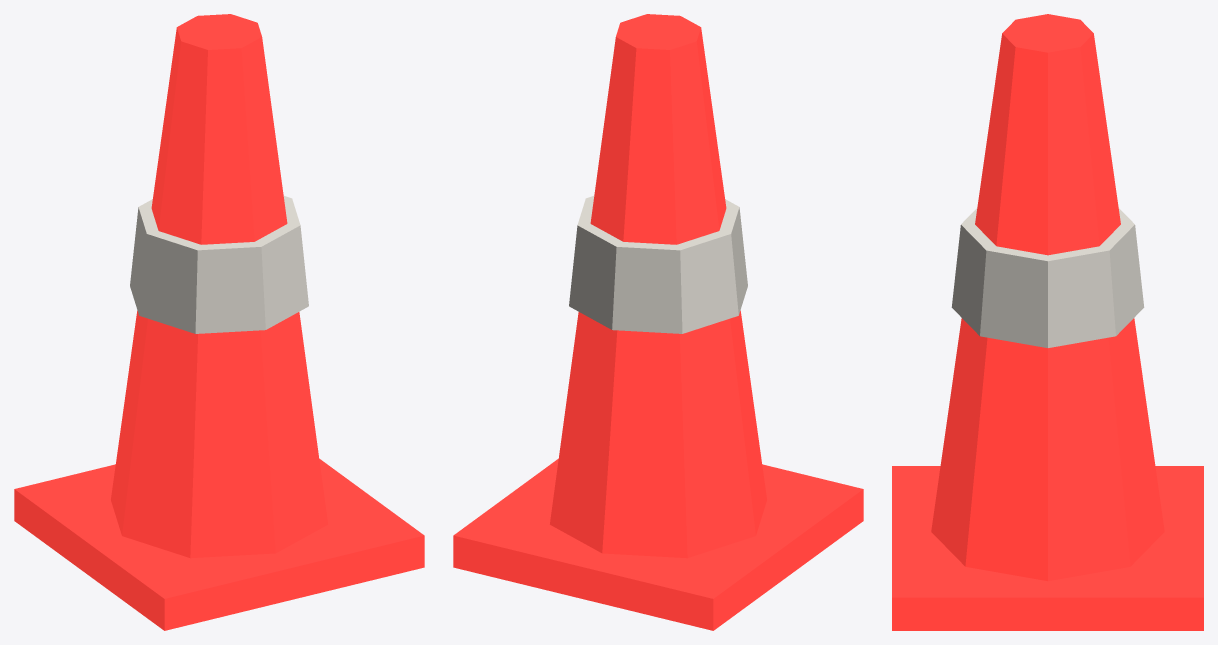
Rendered from prop_cone.glb.
3 views of the same model, side by side, from view 1: azimuth 30°, elevation 25°; view 2: azimuth 150°, elevation 25°; view 3: azimuth 270°, elevation 25° (orthographic). The views are drawn at different scales.
Parts seen in each view (by area): view 1: body.057, base.059, band.003; view 2: body.057, base.059, band.003; view 3: body.057, base.059, band.003.
Part boxes in pixels (x1,y1,x2,y2): body.057: (111,14,327,558); base.059: (14,459,424,630); band.003: (130,196,308,333); body.057: (550,14,766,558); base.059: (453,459,863,630); band.003: (569,196,747,333); body.057: (931,14,1164,581); base.059: (892,466,1203,630); band.003: (951,208,1144,347).
Size of the model in its own units: 0.34 by 0.64 by 0.34.
